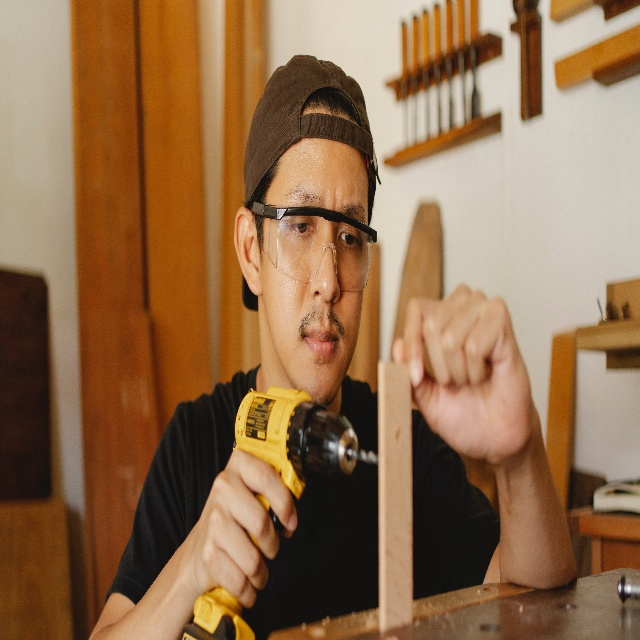Gafas: (251, 200, 378, 292)
Sin_guantes: (390, 282, 538, 468), (191, 445, 298, 609)
